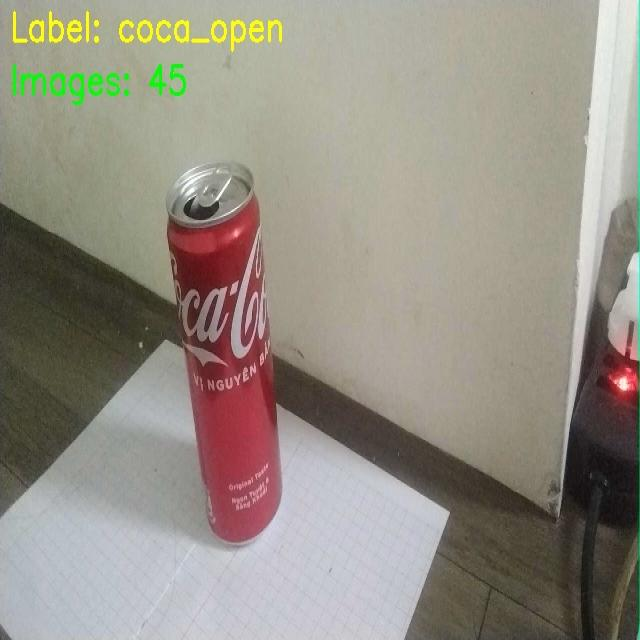Coca_open: (163, 168, 301, 548)
